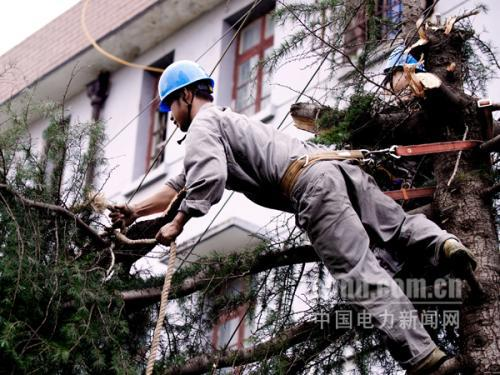helmet: (159, 57, 221, 128)
